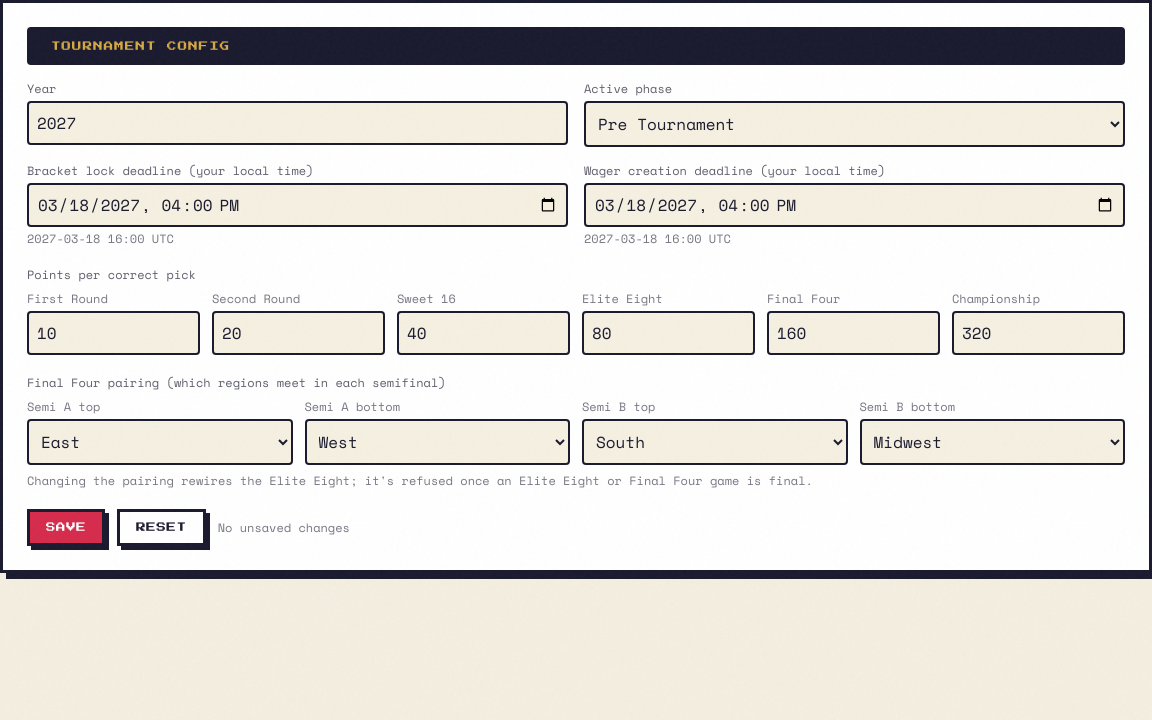
it: ConfigForm › disables Save on an invalid deadline
Clear the field labelled "Bracket lock deadline (your local time)" at {"x": 298, "y": 205}, box [27,183,568,227]
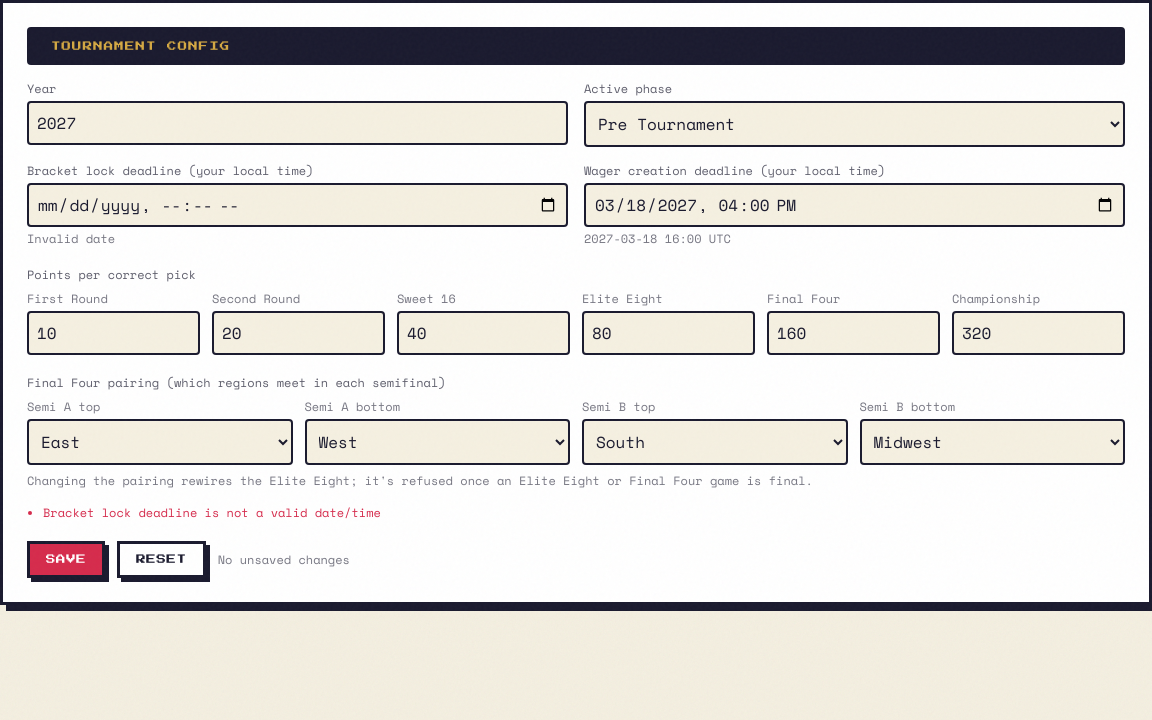
Expected: the button "Save" is disabled, [27,541,105,578]
Expected: the text with test id "lock-utc" reads "Invalid date", [27,230,115,247]
